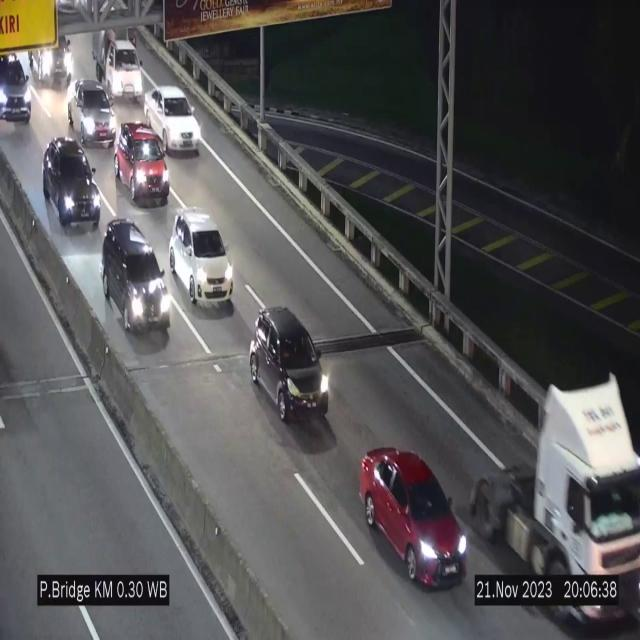Car: (358, 447, 468, 585), (248, 306, 329, 424), (100, 214, 170, 338), (38, 135, 108, 236), (169, 209, 234, 311), (64, 76, 124, 152), (116, 120, 169, 205), (146, 85, 202, 155), (26, 24, 80, 89), (0, 47, 39, 124)
Truck: (471, 371, 640, 638), (100, 31, 148, 106)
